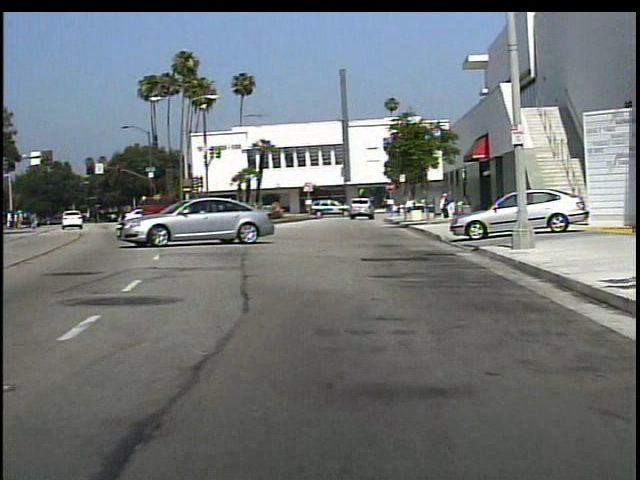person: (445, 189, 460, 225), (439, 193, 450, 221)
